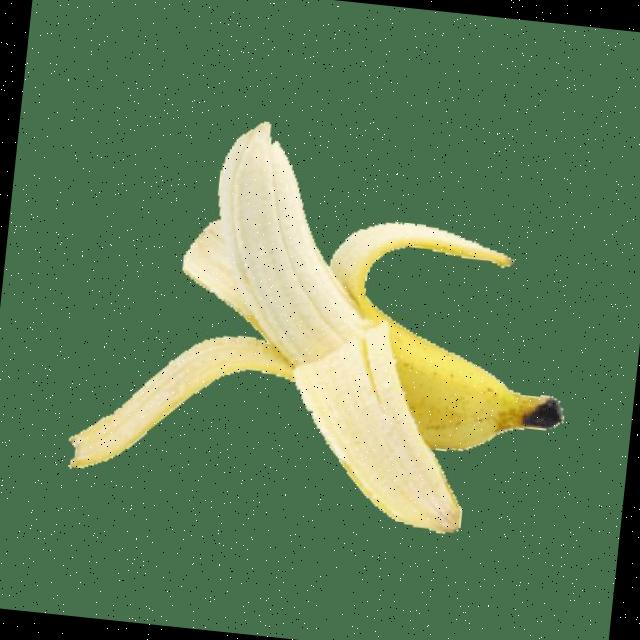banana-peel: (62, 102, 590, 545)
